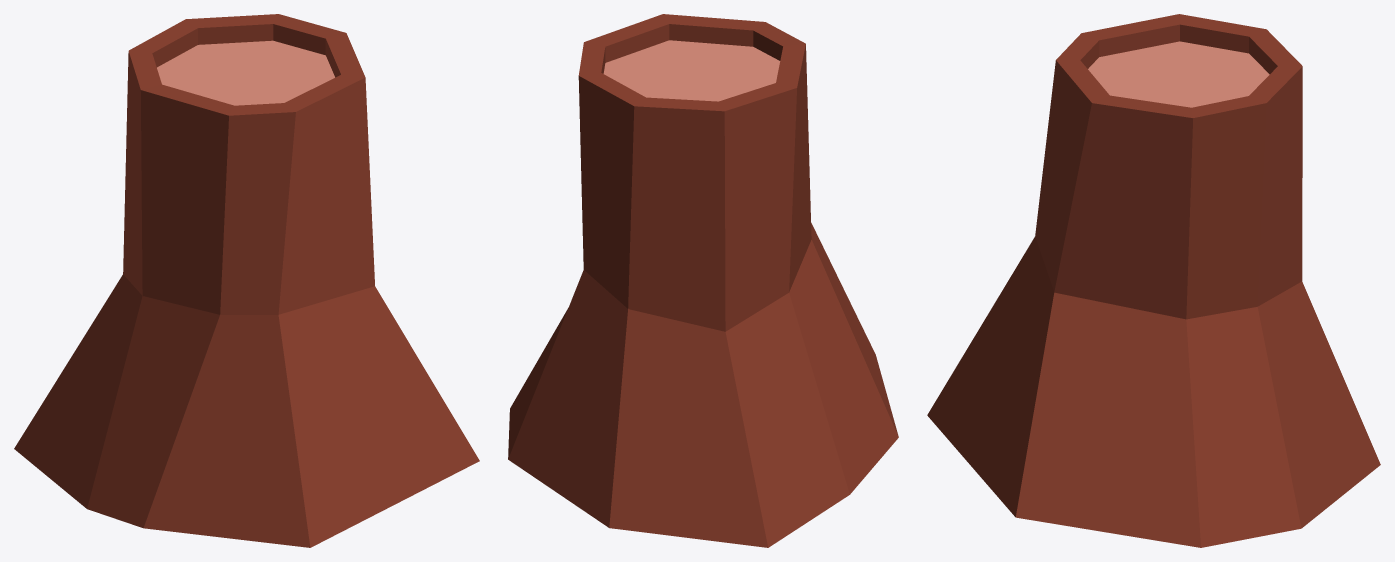
The model's file is stump_1a.fbx.
3 renders of one model, left to right at view 1: azimuth 30°, elevation 25°; view 2: azimuth 150°, elevation 25°; view 3: azimuth 270°, elevation 25°, orthographic. The views are drawn at different scales.
Parts seen in each view (by area): view 1: stump_1a; view 2: stump_1a; view 3: stump_1a.
Boxes of the visible parts, <box> form: stump_1a: <box>14,14,479,547</box>; stump_1a: <box>508,14,898,547</box>; stump_1a: <box>927,14,1380,547</box>.
Bounding box in the file's own units: 84.77 × 98.37 × 97.71.
